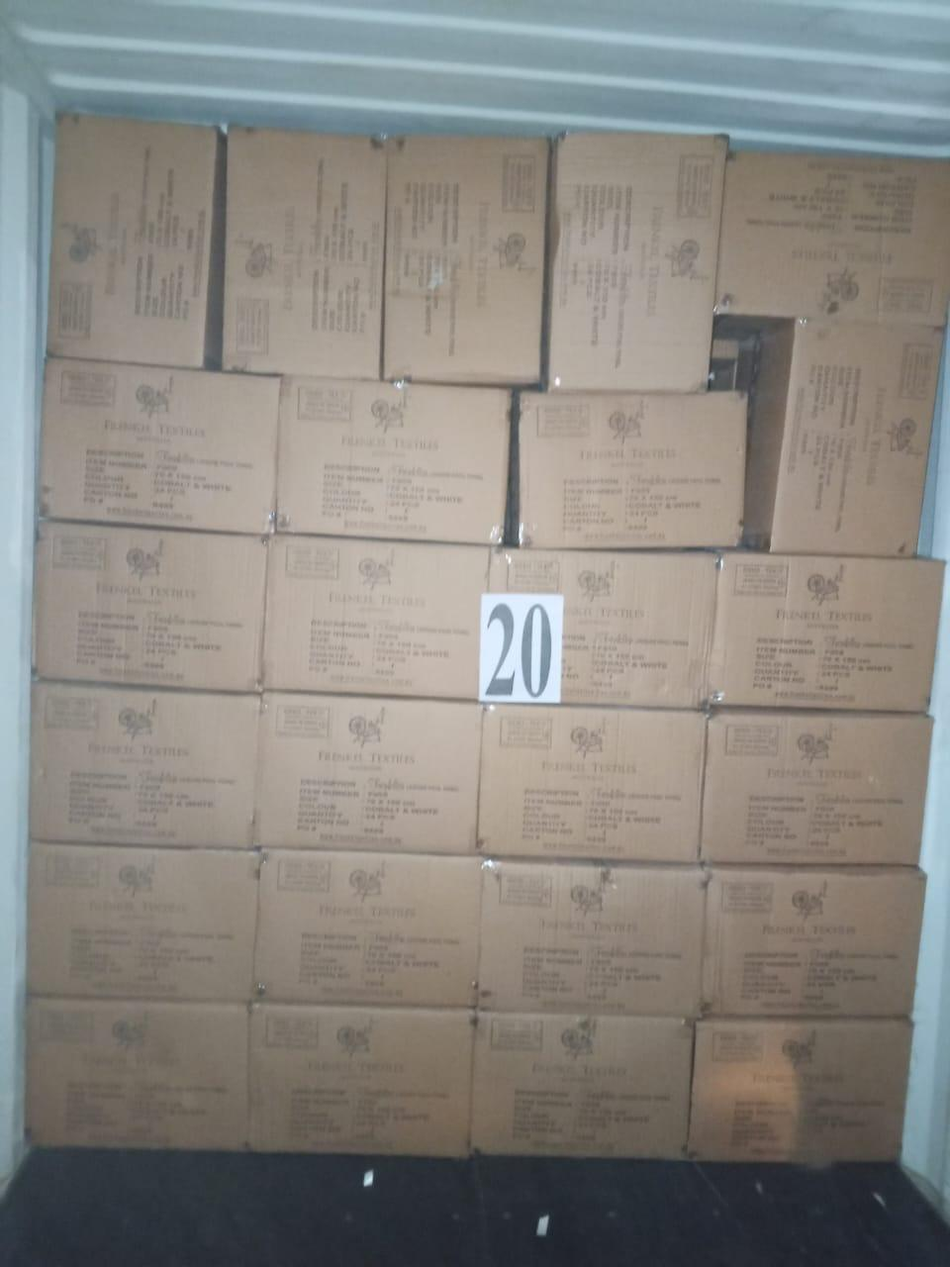carton: (735, 321, 942, 555), (547, 133, 727, 392), (47, 115, 224, 367), (40, 359, 279, 534), (716, 151, 950, 327), (383, 136, 549, 384), (224, 128, 386, 379), (34, 522, 267, 691), (277, 377, 511, 544), (30, 682, 259, 848), (712, 552, 944, 712), (264, 536, 489, 700), (28, 843, 259, 1002), (489, 549, 716, 709), (255, 693, 481, 853), (478, 860, 706, 1017), (519, 392, 747, 548), (478, 706, 706, 862), (702, 711, 932, 865), (255, 850, 480, 1007), (249, 1005, 474, 1156), (26, 999, 248, 1150), (703, 866, 925, 1017), (689, 1019, 911, 1164), (472, 1013, 693, 1158)
